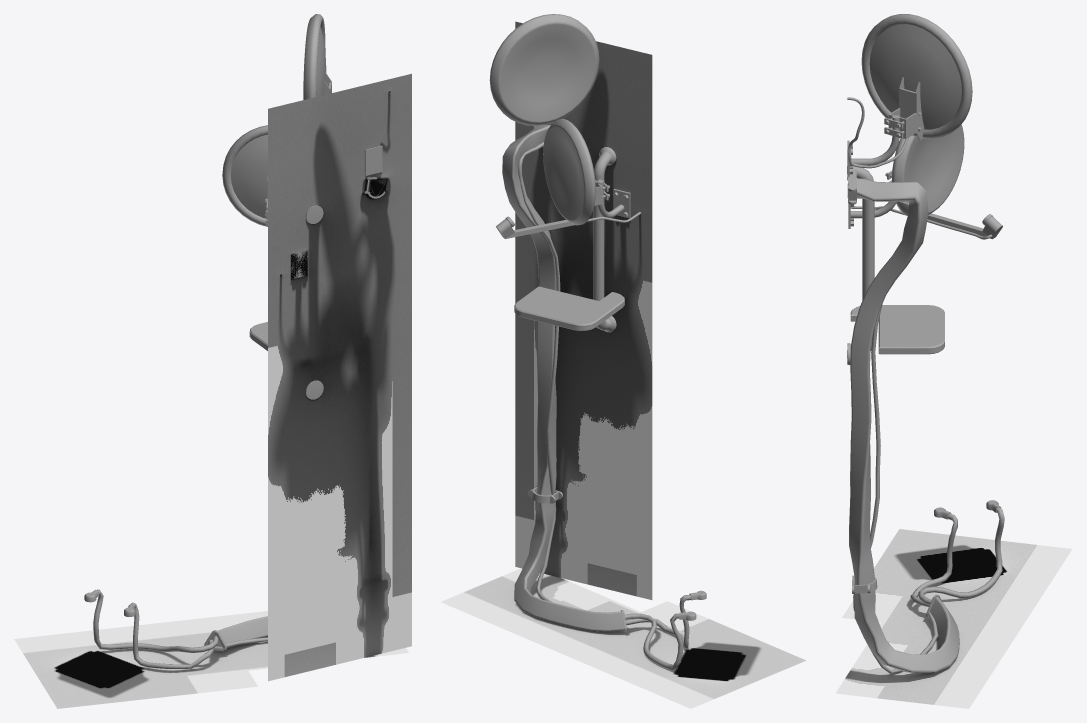
The model's file is WallSatelliteStack.fbx.
The picture shows the model from 3 angles, left to right: view 1: azimuth 30°, elevation 25°; view 2: azimuth 150°, elevation 25°; view 3: azimuth 270°, elevation 25°; orthographic projection. The views are drawn at different scales.
Parts seen in each view (by area): view 1: WallSatelliteStackShadow, WallSatelliteSatelliteDish, WallSatelliteMainPowerCable; view 2: WallSatelliteStackShadow, WallSatelliteSatelliteDish, WallSatelliteMainPowerCable, WallSatelliteShelf, WallSatelliteBracket; view 3: WallSatelliteStackShadow, WallSatelliteMainPowerCable, WallSatelliteSatelliteDish, WallSatelliteShelf, WallSatelliteBracket.
Boxes of the visible parts, box(x1,y1,x2,y2) form: WallSatelliteStackShadow: box(14, 73, 411, 708); WallSatelliteSatelliteDish: box(222, 14, 390, 278); WallSatelliteMainPowerCable: box(84, 177, 385, 668); WallSatelliteStackShadow: box(441, 21, 805, 708); WallSatelliteSatelliteDish: box(489, 14, 640, 238); WallSatelliteMainPowerCable: box(502, 123, 706, 670); WallSatelliteShelf: box(514, 286, 624, 330); WallSatelliteBracket: box(593, 147, 616, 332); WallSatelliteStackShadow: box(835, 529, 1072, 708); WallSatelliteMainPowerCable: box(847, 170, 1004, 673); WallSatelliteSatelliteDish: box(847, 14, 1002, 239); WallSatelliteShelf: box(850, 305, 944, 354); WallSatelliteBracket: box(847, 166, 874, 365).
Bounding box in the file's own units: 124 × 209 × 69.21.
5 materials, 1 textured.
